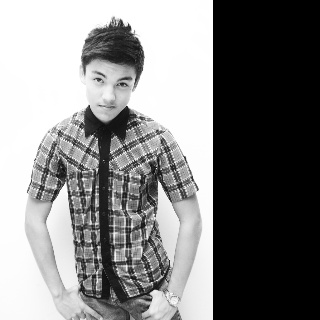without_mask: (86, 58, 136, 120)
